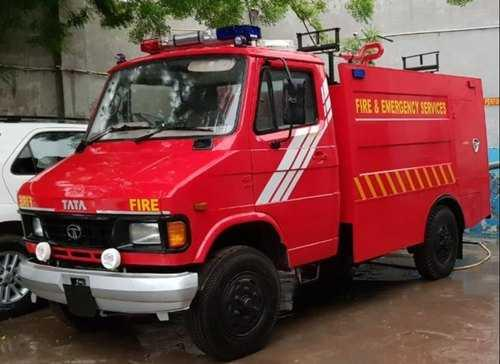Emergency-Vehicles: (44, 45, 476, 305)
